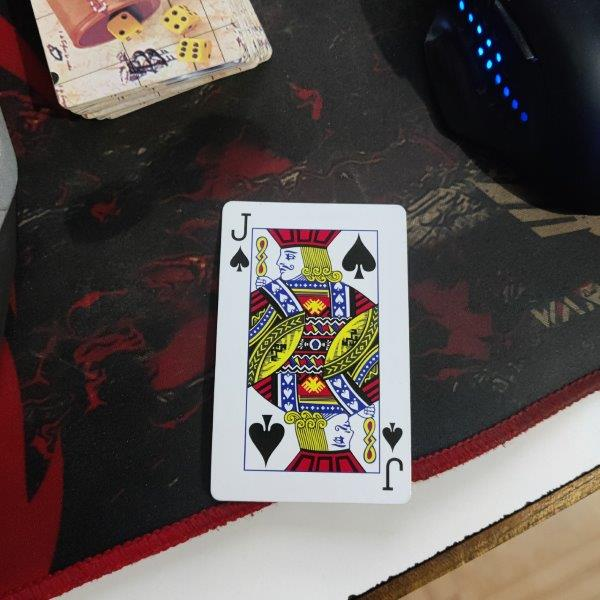Jack of Spades: (209, 201, 413, 505)
